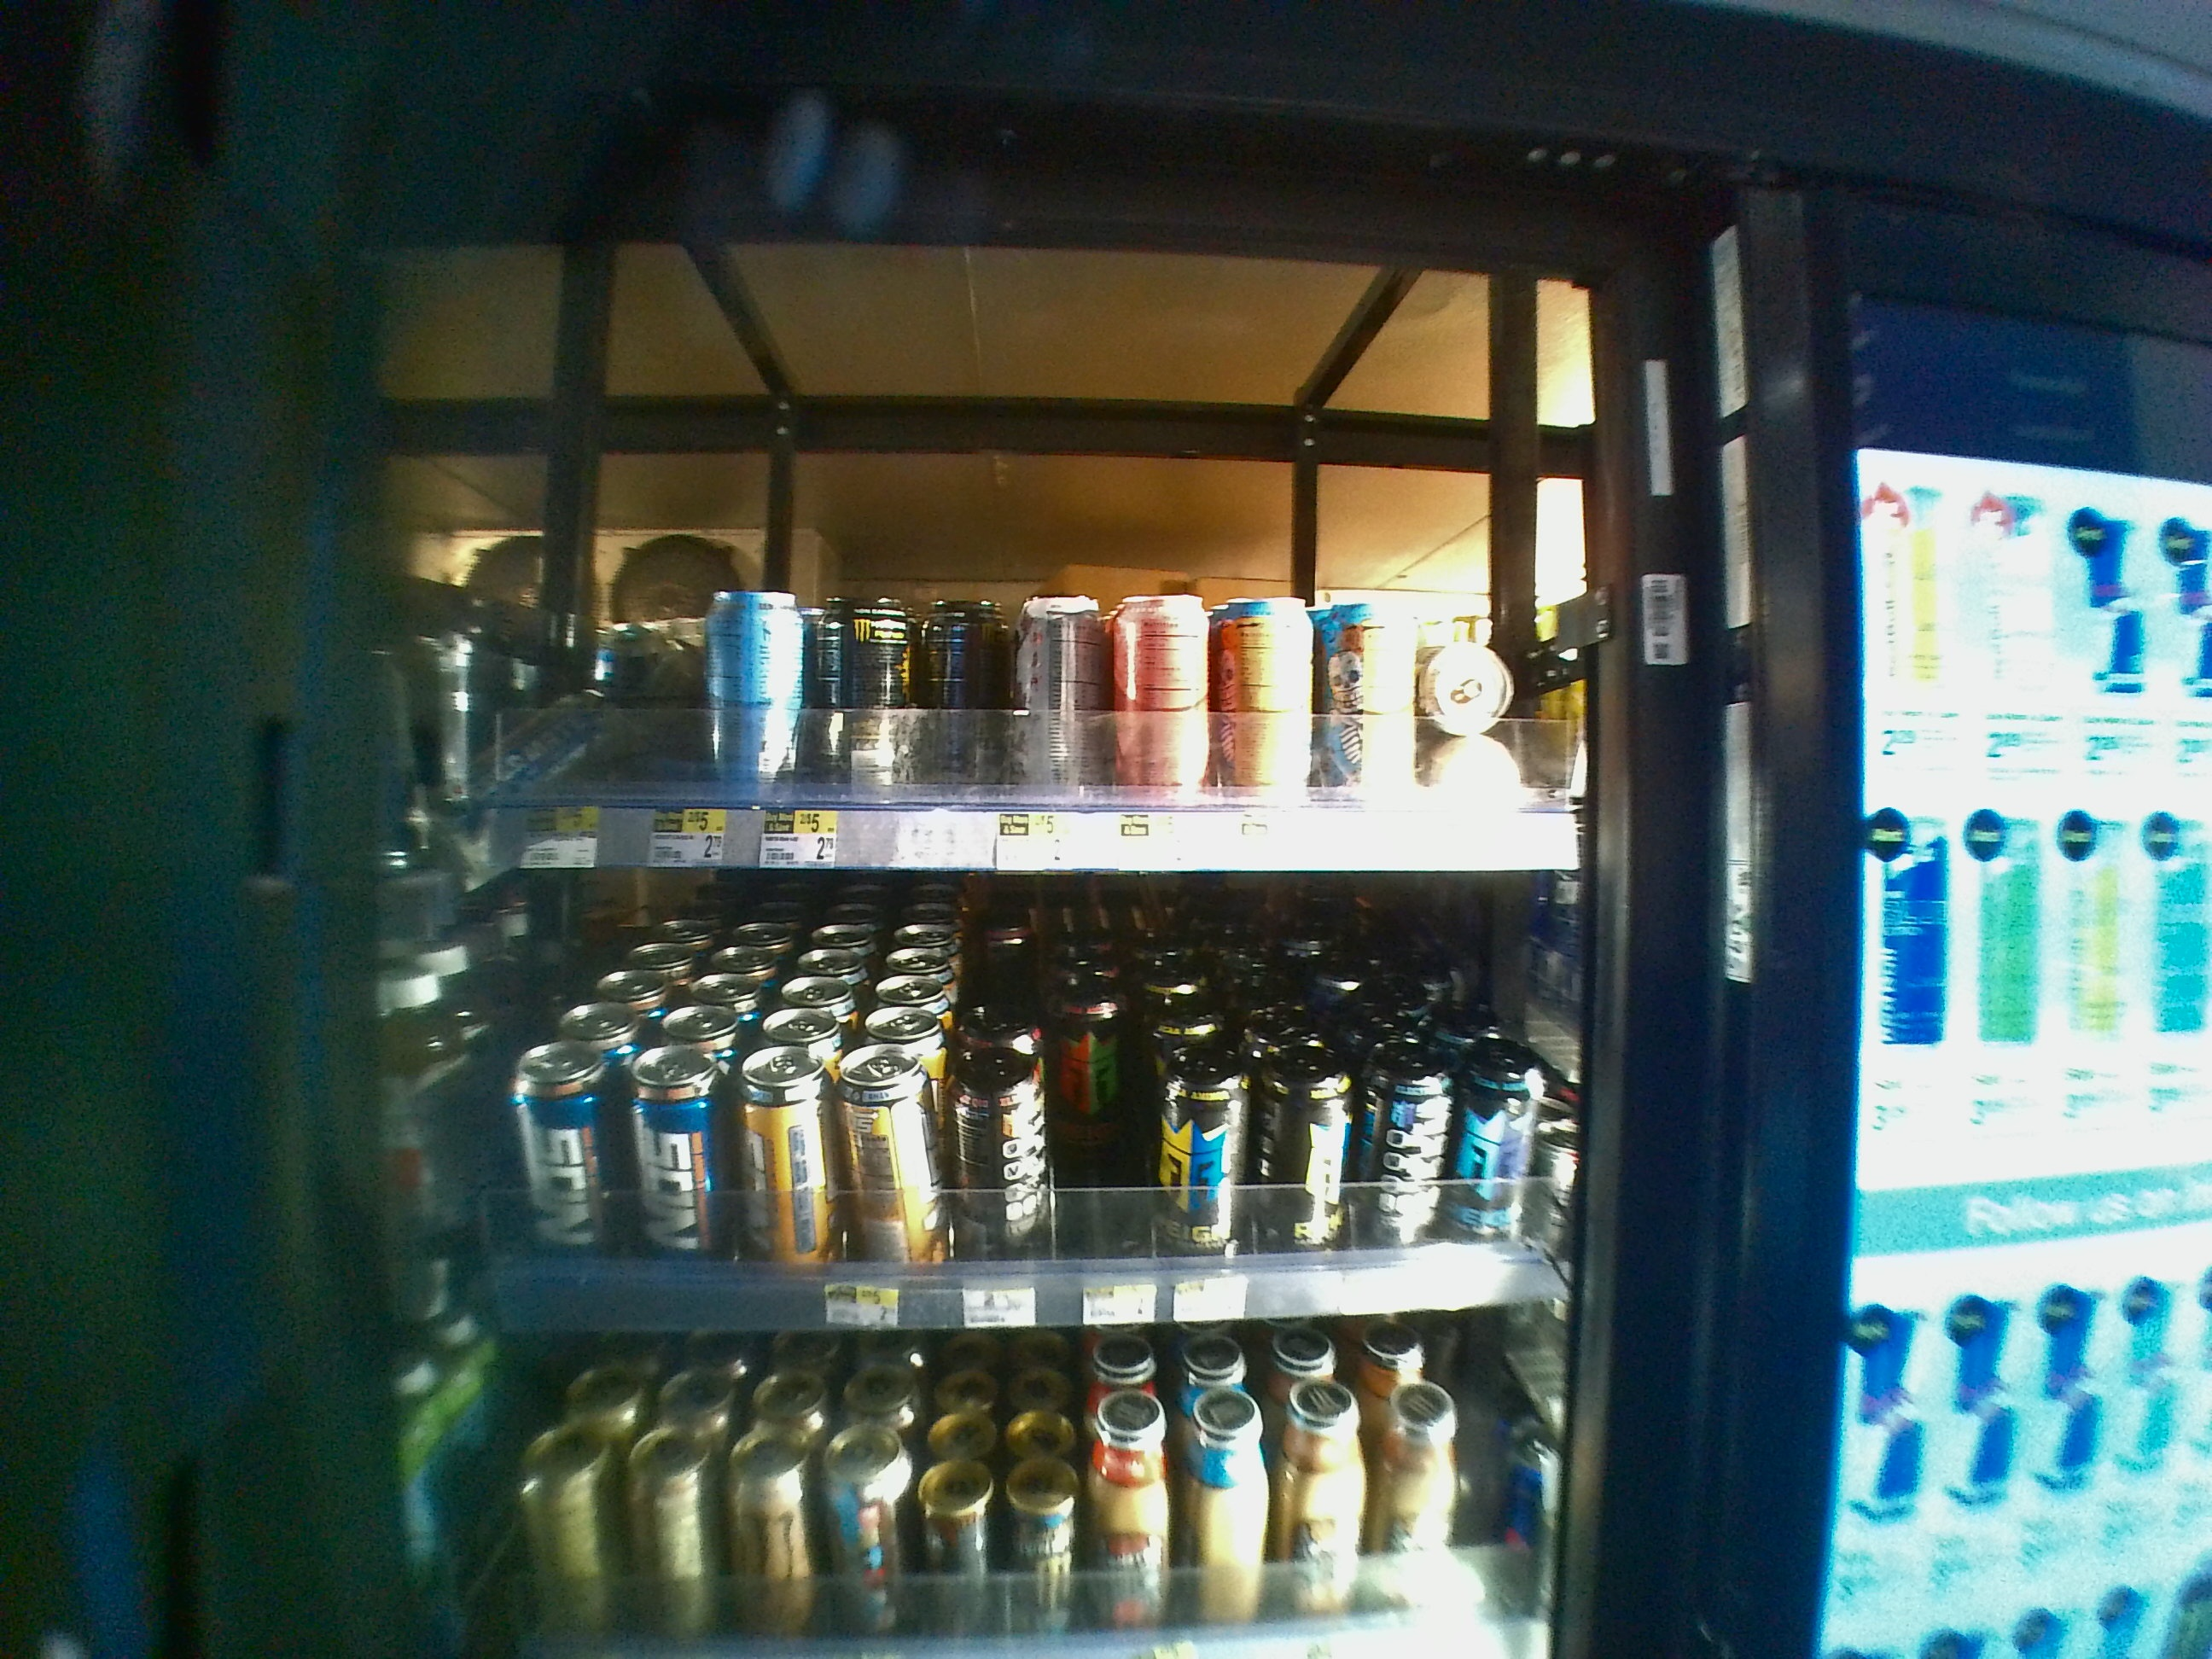shelf: (383, 242, 1618, 871), (366, 875, 1629, 1321)
